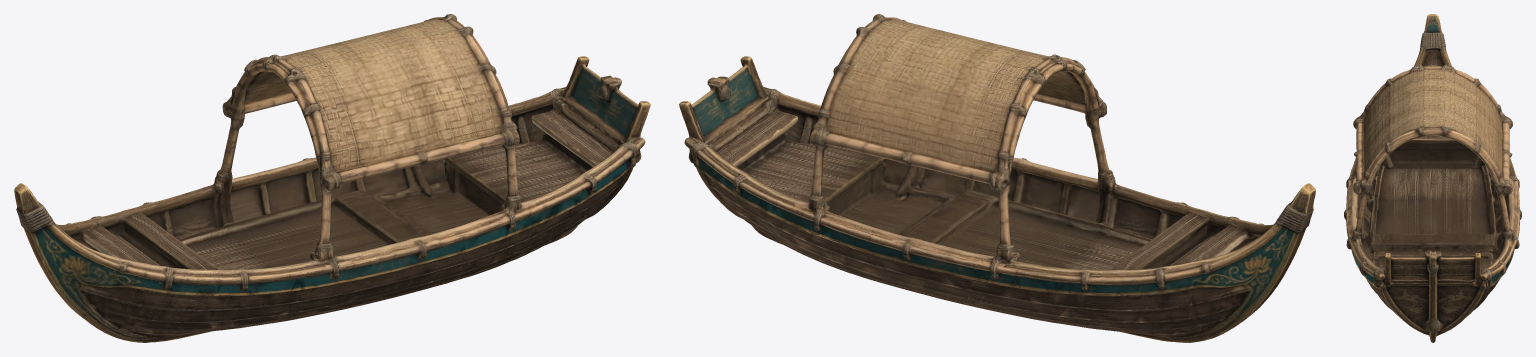
Rendered from vietnamese-boat.glb.
3 views of the same model, side by side, from view 1: azimuth 30°, elevation 25°; view 2: azimuth 150°, elevation 25°; view 3: azimuth 270°, elevation 25° (orthographic). The views are drawn at different scales.
Bounding box in the file's own units: 1.9 × 0.7453 × 0.6599.
Materials: 1 (1 with a texture image).
